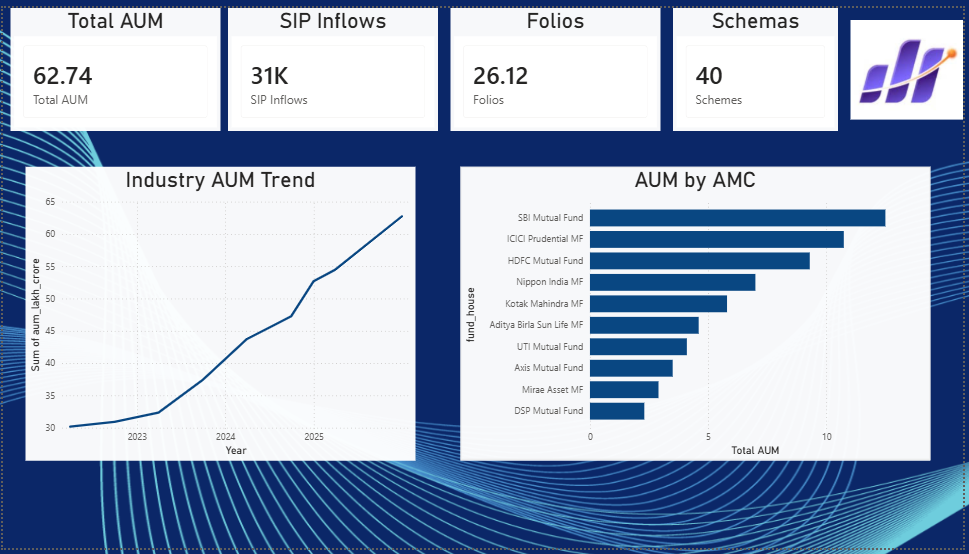

The dashboard page shown, as its layout file describes it:
{"tool":"powerbi","page":{"name":"Industry Overview","canvas":[1280,720],"ordinal":0},"visuals":[{"type":"cardVisual","title":"Total AUM","fields":{"Data":["03_aum_by_fund_house_cleaned.Total AUM"]},"box":[10,0,280,280],"z":0},{"type":"cardVisual","title":"SIP Inflows","fields":{"Data":["04_monthly_sip_inflows_cleaned.SIP Inflows"]},"box":[300,0,280,280],"z":1000},{"type":"cardVisual","title":"Folios","fields":{"Data":["06_industry_folio_count_cleaned.Folios"]},"box":[580,0,280,280],"z":2000},{"type":"cardVisual","title":"Schemas","fields":{"Data":["01_fund_master_cleaned.Schemes"]},"box":[833.3,0,280,280],"z":3000},{"type":"lineChart","title":" Industry AUM Trend","fields":{"Y":["Sum(03_aum_by_fund_house_cleaned.aum_lakh_crore)"],"Category":["03_aum_by_fund_house_cleaned.date.Variation.Date Hierarchy.Year","03_aum_by_fund_house_cleaned.date.Variation.Date Hierarchy.Quarter","03_aum_by_fund_house_cleaned.date.Variation.Date Hierarchy.Month","03_aum_by_fund_house_cleaned.date.Variation.Date Hierarchy.Day"]},"box":[10,290,520,391.7],"z":4000},{"type":"clusteredBarChart","title":"AUM by AMC","fields":{"Category":["03_aum_by_fund_house_cleaned.fund_house"],"Y":["03_aum_by_fund_house_cleaned.Total AUM"]},"box":[580,290,626.7,391.7],"z":5000}]}

Visuals, with their boxes in screenshot pixels (x1, y1, x2, y2), scaled from the page's 1280x720 canvas onto the 969x554 screenshot:
"Total AUM" cardVisual: {"x1": 8, "y1": 0, "x2": 220, "y2": 215}
"SIP Inflows" cardVisual: {"x1": 227, "y1": 0, "x2": 439, "y2": 215}
"Folios" cardVisual: {"x1": 439, "y1": 0, "x2": 651, "y2": 215}
"Schemas" cardVisual: {"x1": 631, "y1": 0, "x2": 843, "y2": 215}
" Industry AUM Trend" lineChart: {"x1": 8, "y1": 223, "x2": 401, "y2": 525}
"AUM by AMC" clusteredBarChart: {"x1": 439, "y1": 223, "x2": 914, "y2": 525}
